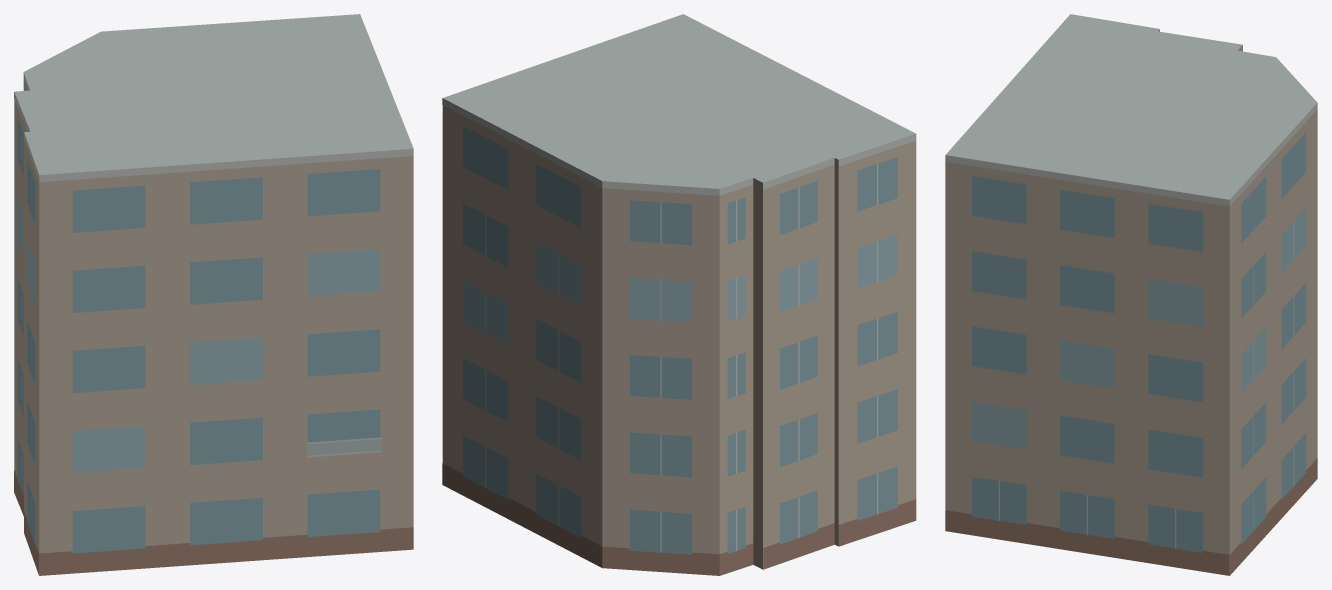
File: survey-upis-32856965.glb
3 renders of one model, left to right at view 1: azimuth 30°, elevation 25°; view 2: azimuth 150°, elevation 25°; view 3: azimuth 270°, elevation 25°, orthographic. The views are drawn at different scales.
Parts seen in each view (by area): view 1: survey-upis-32856965.tmp; view 2: survey-upis-32856965.tmp; view 3: survey-upis-32856965.tmp.
Part boxes in pixels (x1=…): survey-upis-32856965.tmp: x1=14, y1=14, x2=413, y2=575; survey-upis-32856965.tmp: x1=442, y1=14, x2=916, y2=575; survey-upis-32856965.tmp: x1=945, y1=14, x2=1317, y2=575.
Bounding box in the file's own units: 14.64 × 13.8 × 12.39.
